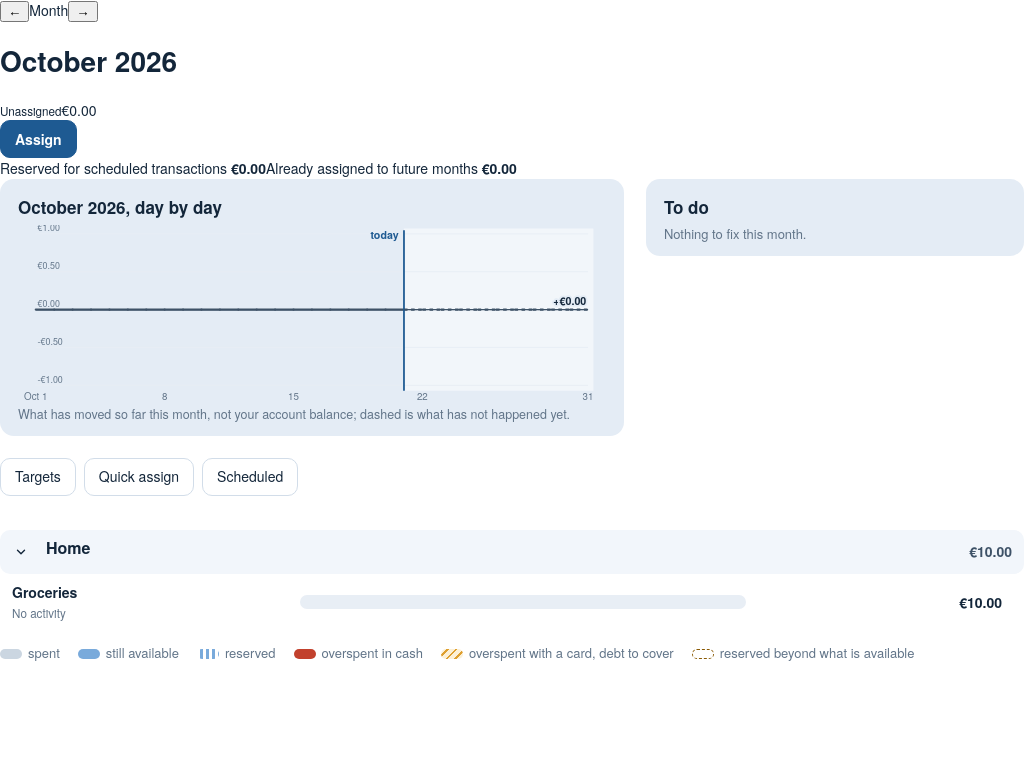
Scenario: BudgetScreen (#53, #324) › instant budget-problem toast (#61) › dismisses the toast on its own close button
Expected: the text "Groceries" is shown, x1=12 y1=582 x2=77 y2=602
Click the button "Groceries No activity €10.00".
click(512, 602)  # box x1=0 y1=574 x2=1023 y2=630
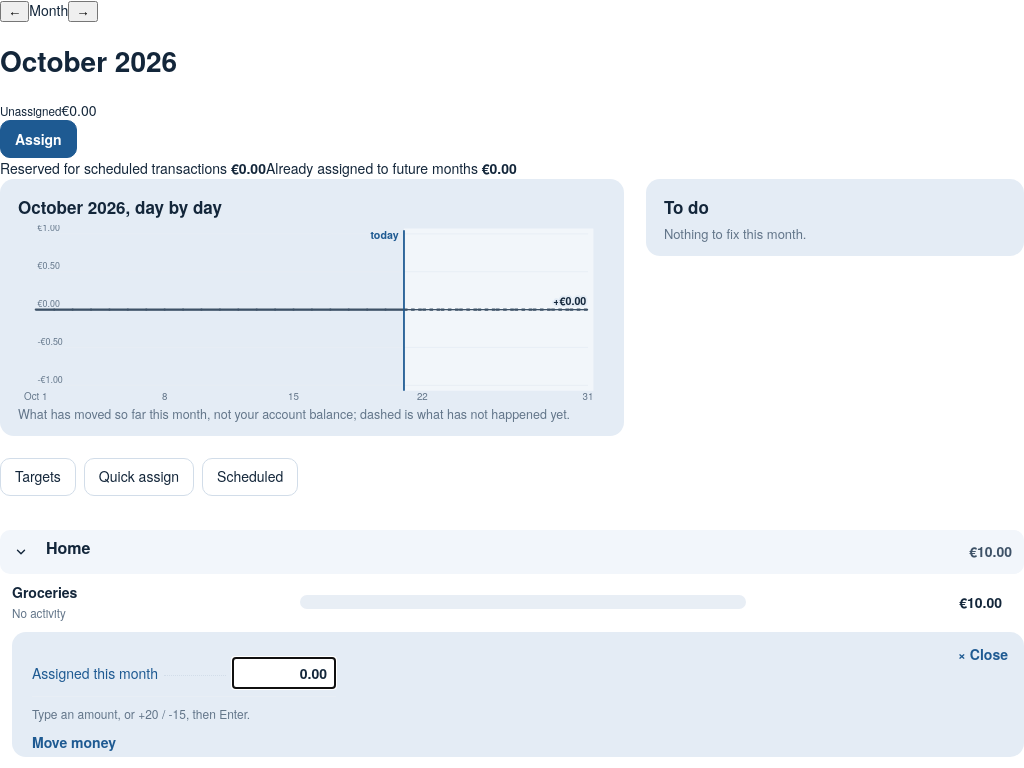
Replace the text in the field labelled "Assigned this month" with "-5.00" at (284, 673), box x1=232 y1=657 x2=336 y2=689
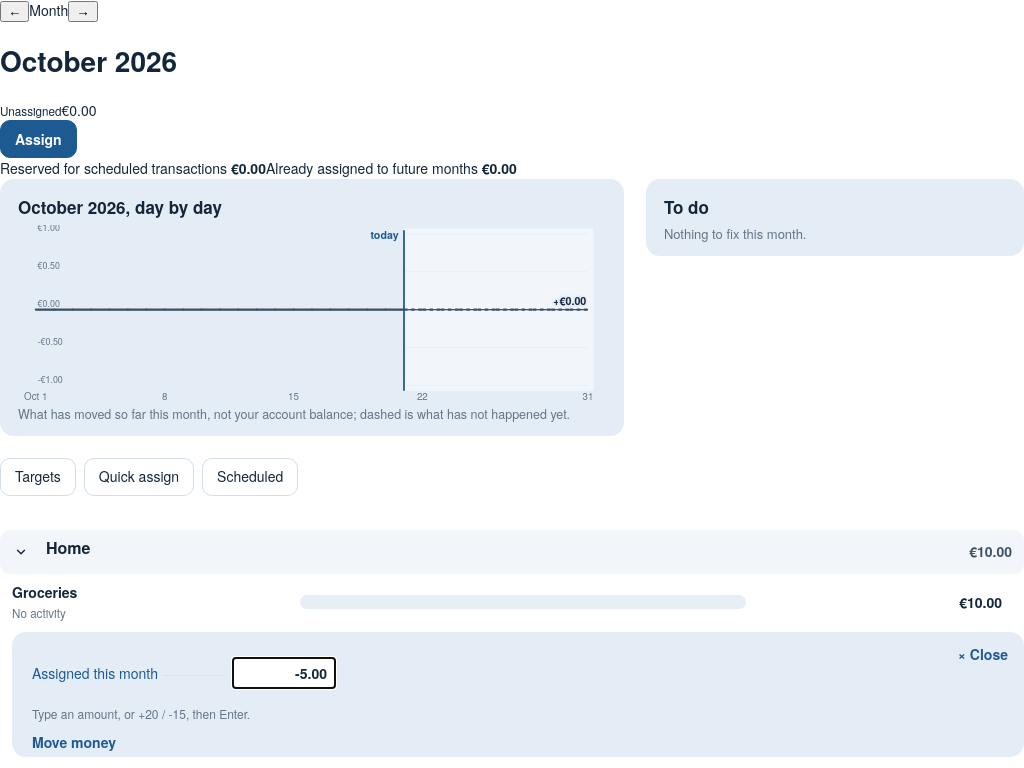
Press Enter in the field labelled "Assigned this month", box x1=232 y1=657 x2=336 y2=689
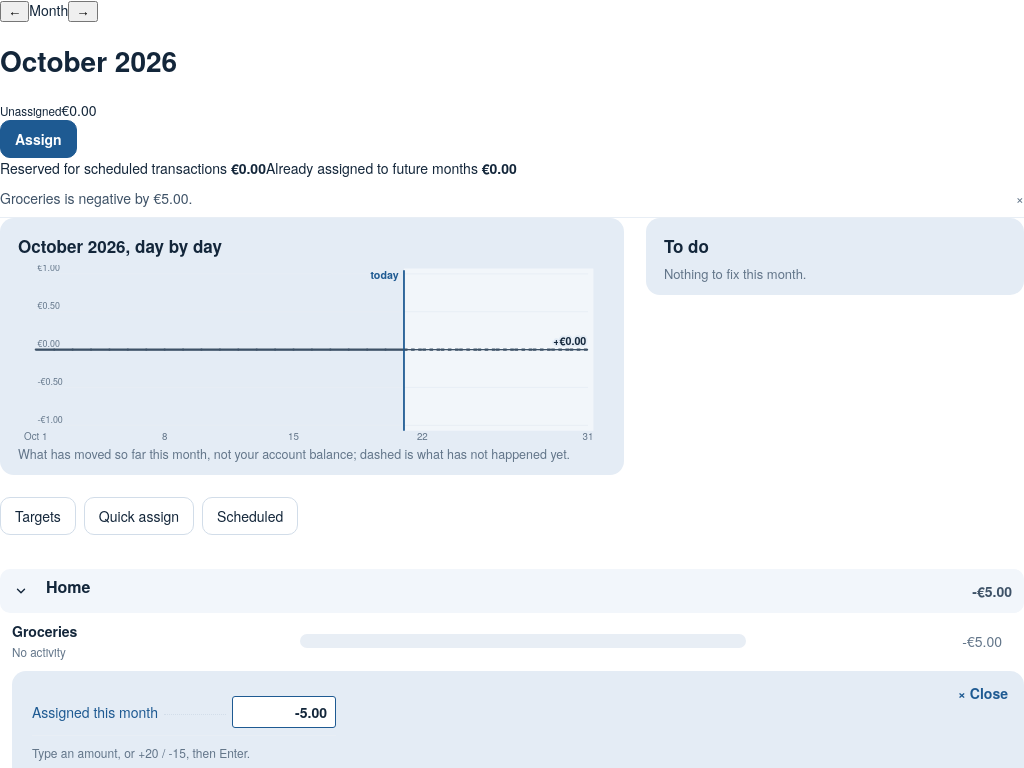
Now the text "Groceries is negative by €5.00." is shown, box x1=0 y1=188 x2=192 y2=208
Click the button named "Close this message".
click(1020, 198)  # box x1=1016 y1=188 x2=1023 y2=208
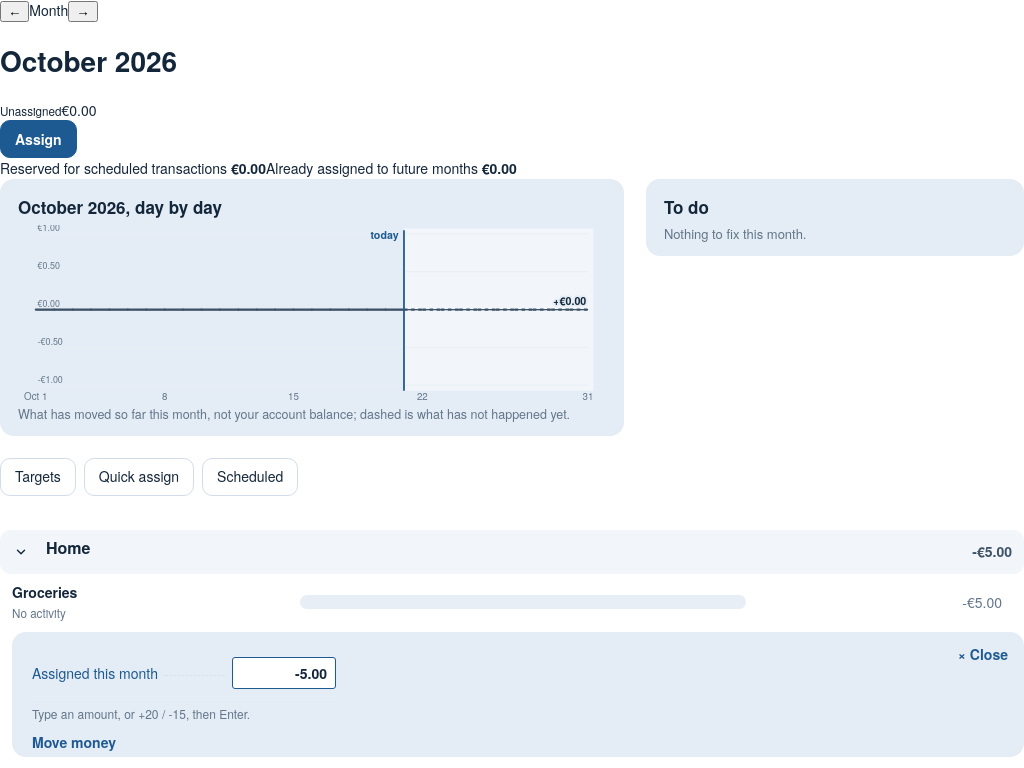
Now the text "Groceries is negative by €5.00." is gone
